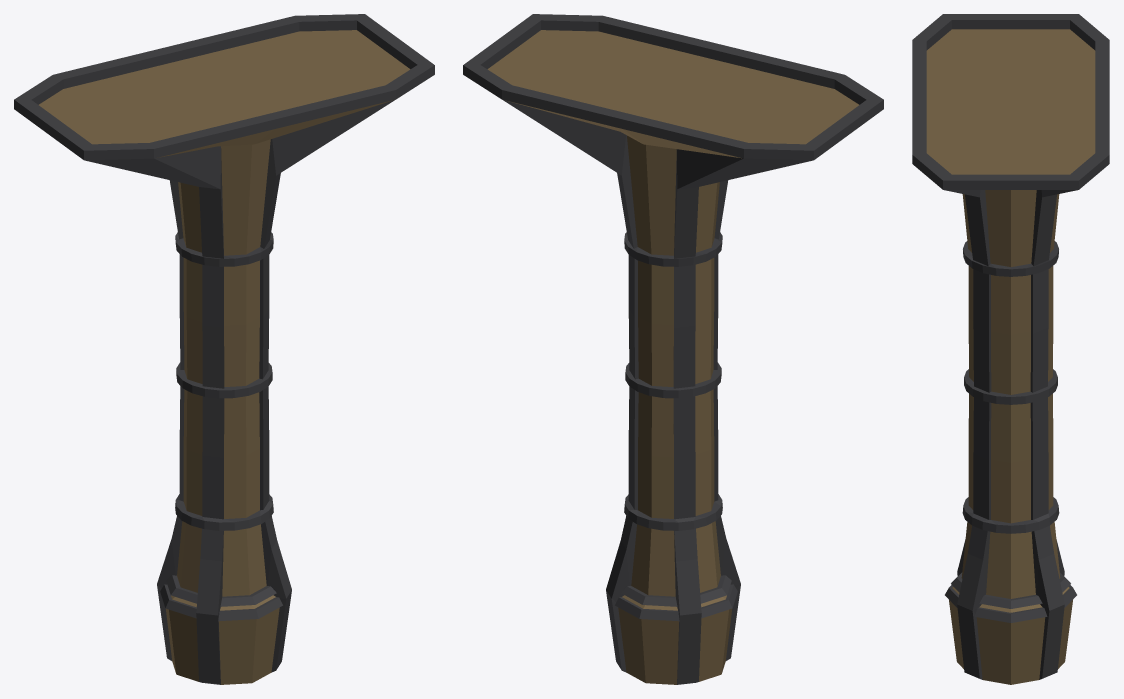
Rendered from Bell_Piller_longboi.fbx.
The picture shows the model from 3 angles, left to right: view 1: azimuth 30°, elevation 25°; view 2: azimuth 150°, elevation 25°; view 3: azimuth 270°, elevation 25°; orthographic projection. The views are drawn at different scales.
Parts seen in each view (by area): view 1: Cylinder.010; view 2: Cylinder.010; view 3: Cylinder.010.
Part boxes in pixels (<box>): Cylinder.010: <box>14,14,434,684</box>; Cylinder.010: <box>463,14,883,684</box>; Cylinder.010: <box>912,14,1109,684</box>.
Bounding box in the file's own units: 72.91 × 115 × 36.46.
